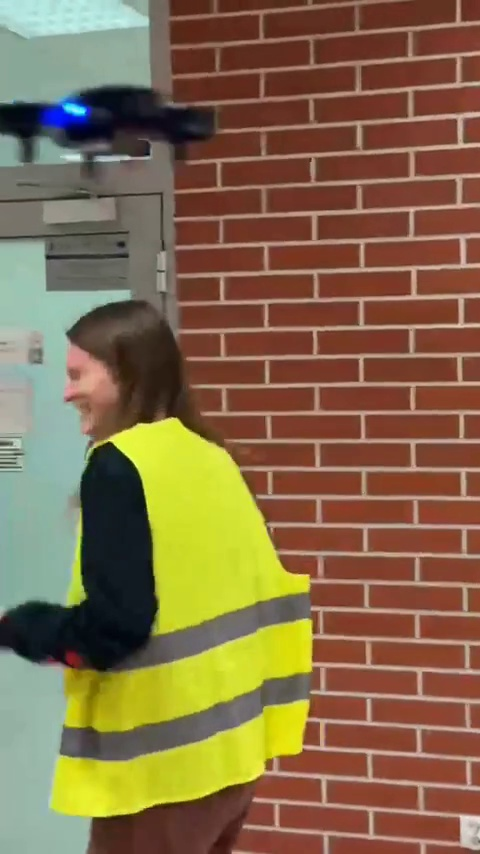drone: (0, 85, 213, 166)
vest: (20, 295, 322, 852)
